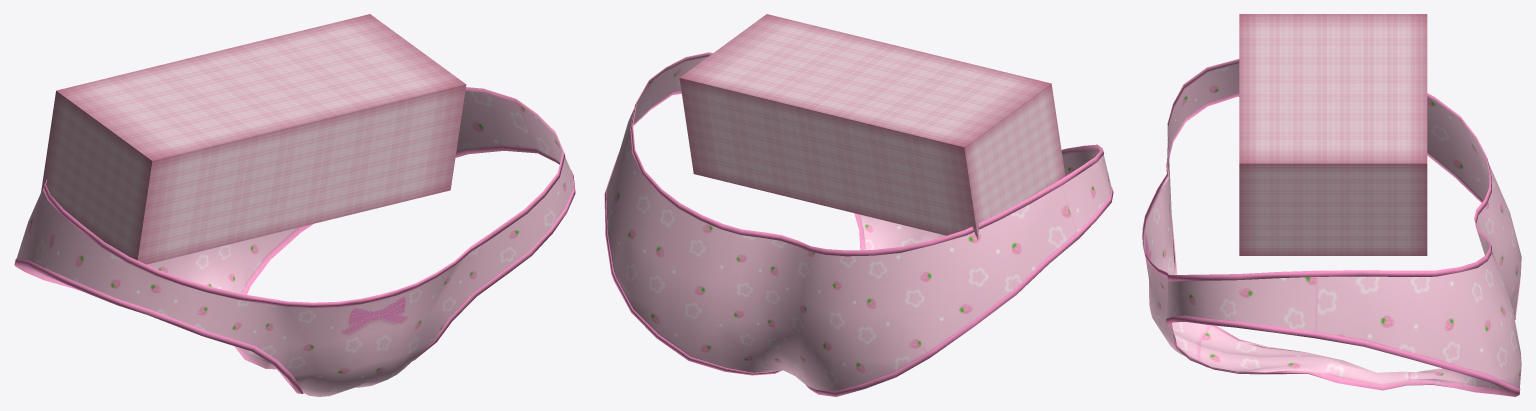
Rendered from Panties.dae.
3 renders of one model, left to right at view 1: azimuth 30°, elevation 25°; view 2: azimuth 150°, elevation 25°; view 3: azimuth 270°, elevation 25°, orthographic. The views are drawn at different scales.
Visible parts, largest first — view 1: prim0, prim1; view 2: prim1, prim0; view 3: prim1, prim0.
Boxes of the visible parts, x1,y1,x2,y2 form: prim0: (41,14,466,264); prim1: (14,87,575,396); prim1: (604,52,1113,396); prim0: (679,14,1065,239); prim1: (1142,59,1521,396); prim0: (1239,14,1427,255).
Size of the model in its own units: 0.3286 by 0.2229 by 0.1856.
Materials: 2 (2 with a texture image).
